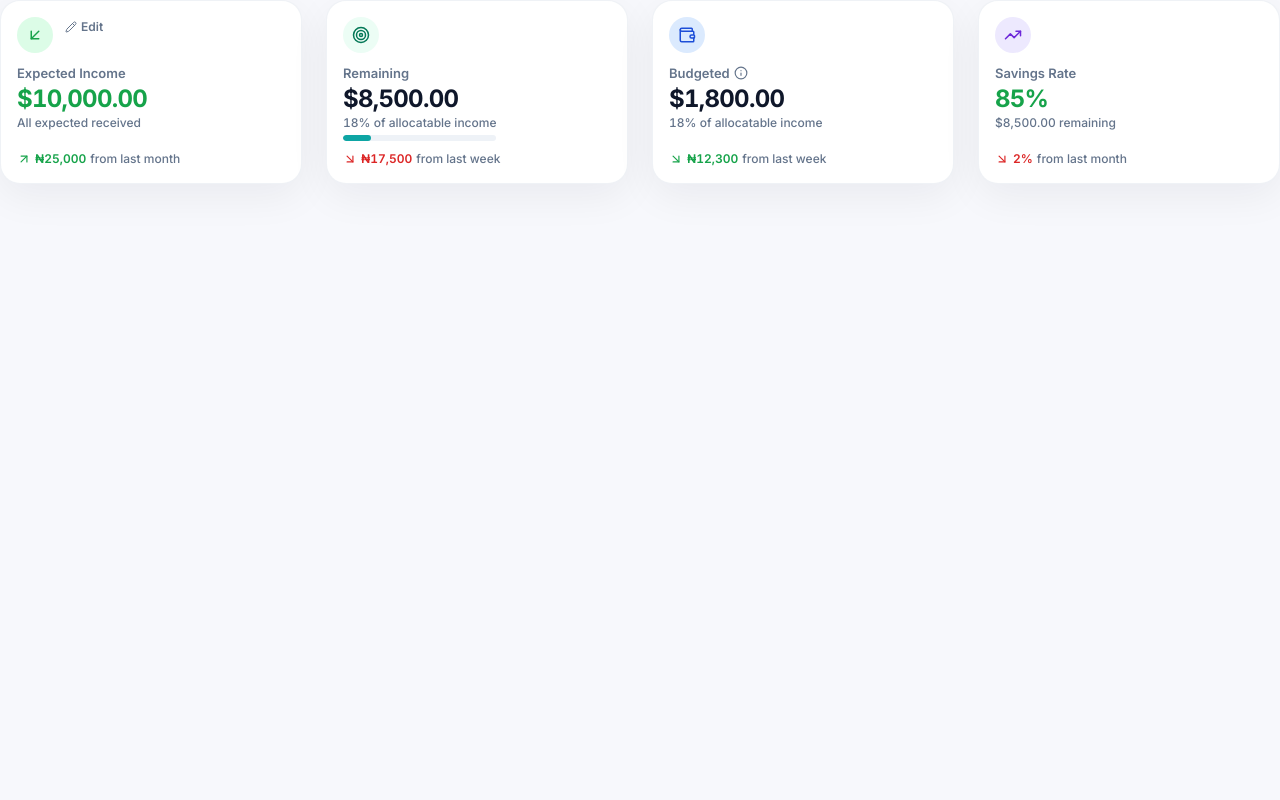
Scenario: SummaryCards allocate-remaining entry point › mounts no allocation sliders until a category is chosen
Click the button "Remaining". click: (361, 35)
box: left=326, top=0, right=628, bottom=184
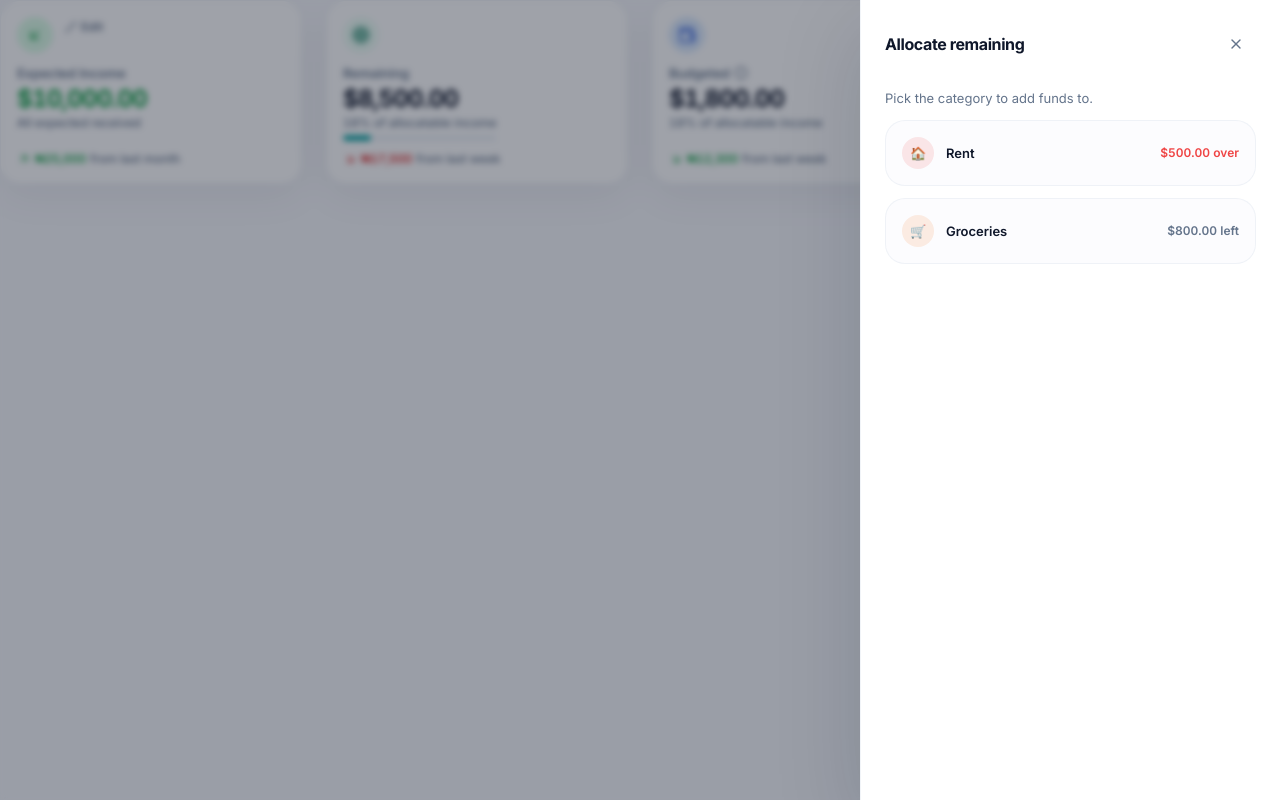
Expected: the heading "Allocate remaining" is shown, left=885, top=32, right=1024, bottom=56
Expected: the text "$500.00 over" is shown, left=1160, top=145, right=1239, bottom=161
